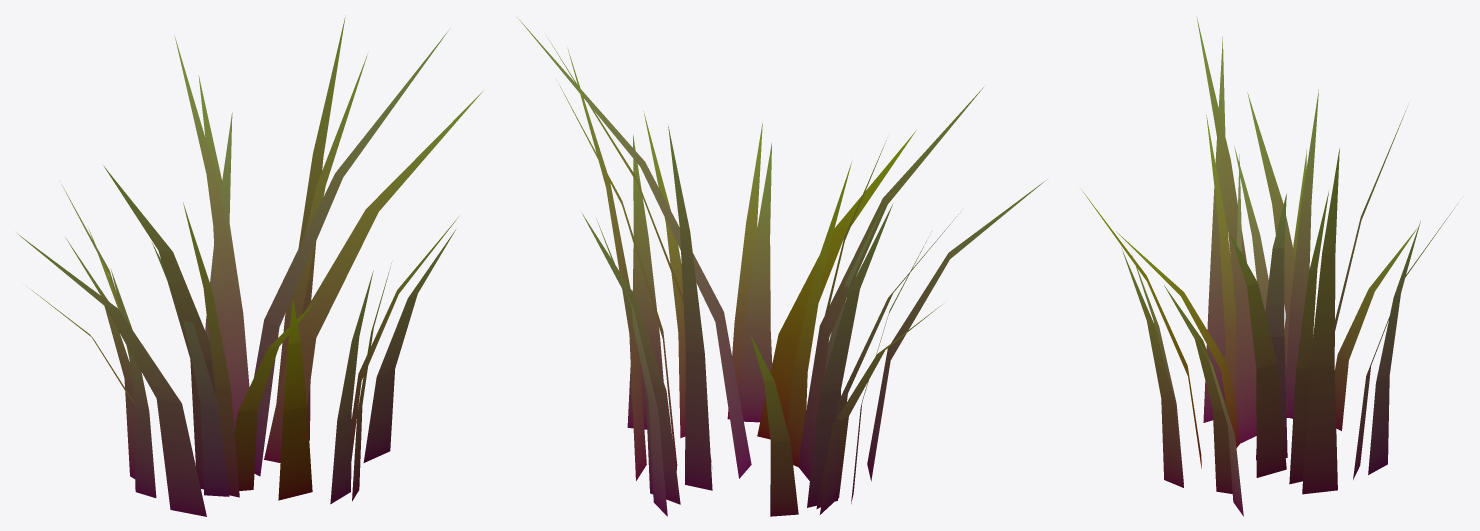
The model's file is veg_grass_a.glb.
3 renders of one model, left to right at view 1: azimuth 30°, elevation 25°; view 2: azimuth 150°, elevation 25°; view 3: azimuth 270°, elevation 25°, orthographic. The views are drawn at different scales.
Visible parts, largest first — view 1: veg_grass_a_LOD0; view 2: veg_grass_a_LOD0; view 3: veg_grass_a_LOD0.
Part boxes in pixels (x1=…): veg_grass_a_LOD0: x1=18, y1=15, x2=483, y2=516; veg_grass_a_LOD0: x1=517, y1=17, x2=1047, y2=516; veg_grass_a_LOD0: x1=1081, y1=16, x2=1457, y2=516.
Size of what is drawn, in the model's own units: 0.2993 by 0.24 by 0.2251.
